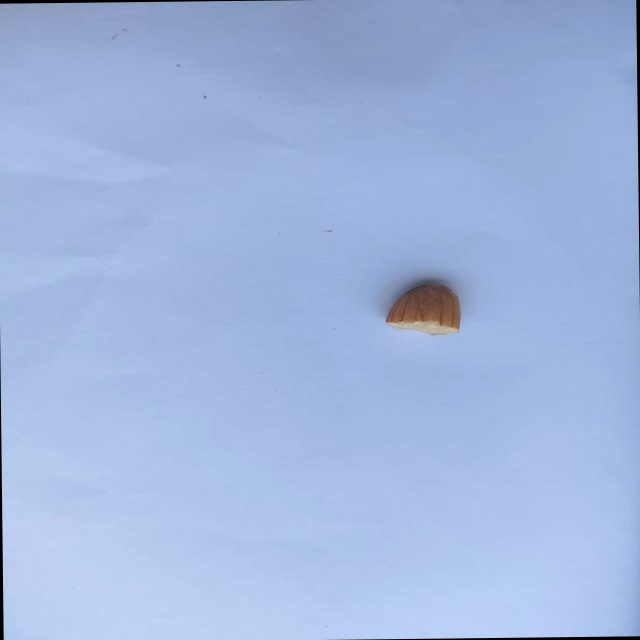grade4: (377, 277, 468, 340)
